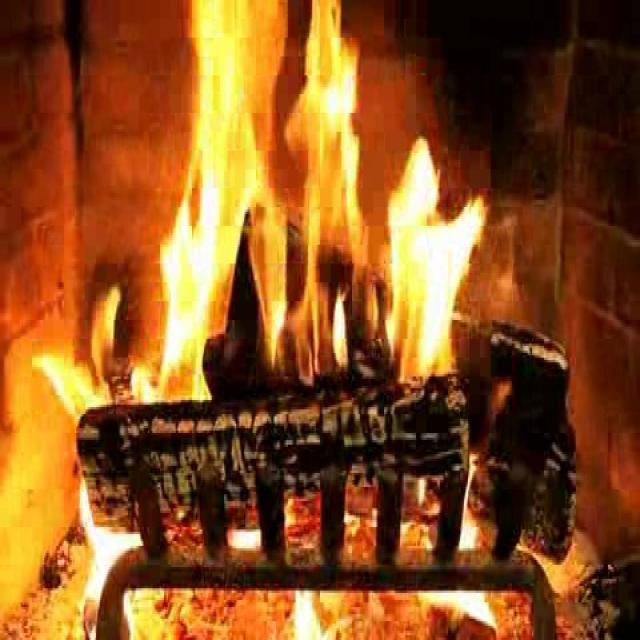fire: (133, 6, 487, 417)
